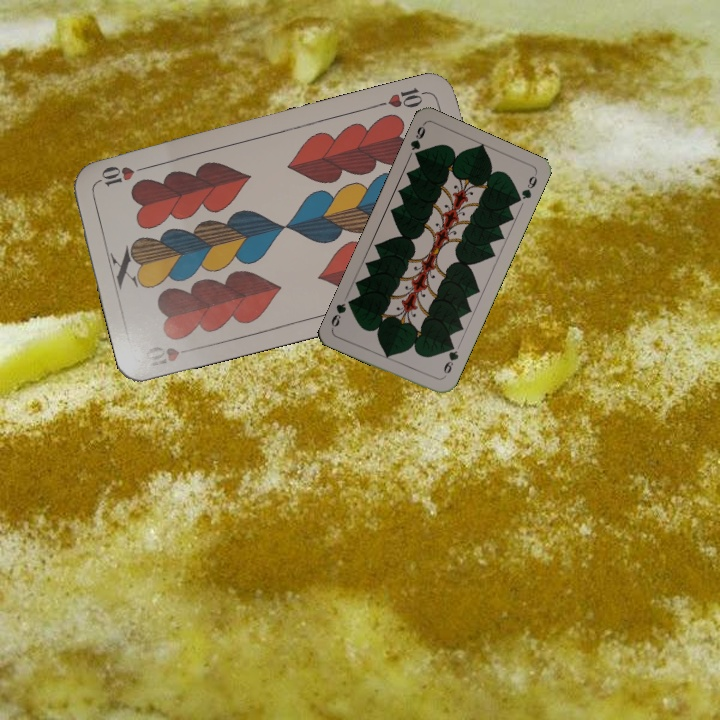G9: (406, 120, 428, 162), (439, 340, 461, 381)
H10: (374, 83, 433, 111), (140, 342, 182, 364)
